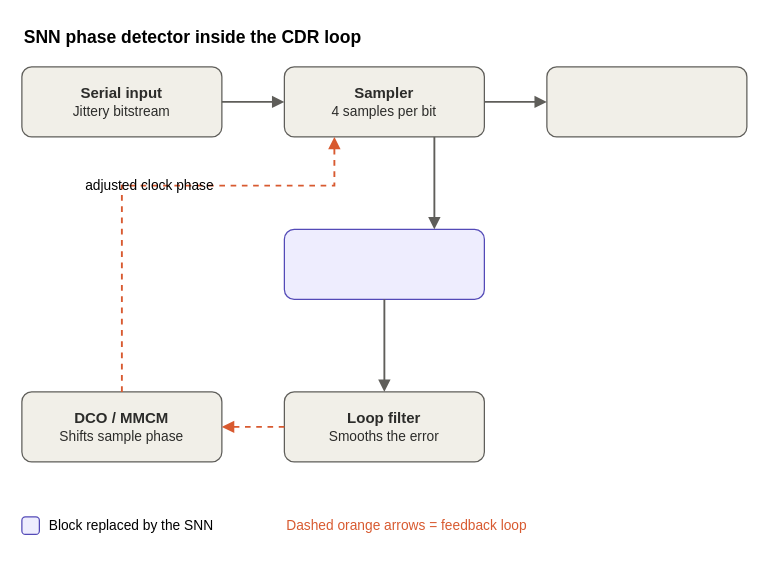
Image size: 769x561. Some labels were removed from this diagram. The centre of each missing label's shape, as x and y in pixels:
Deserializer Bits to 8-bit words: point 646,101
SNN detector Early or late?: point 383,263
